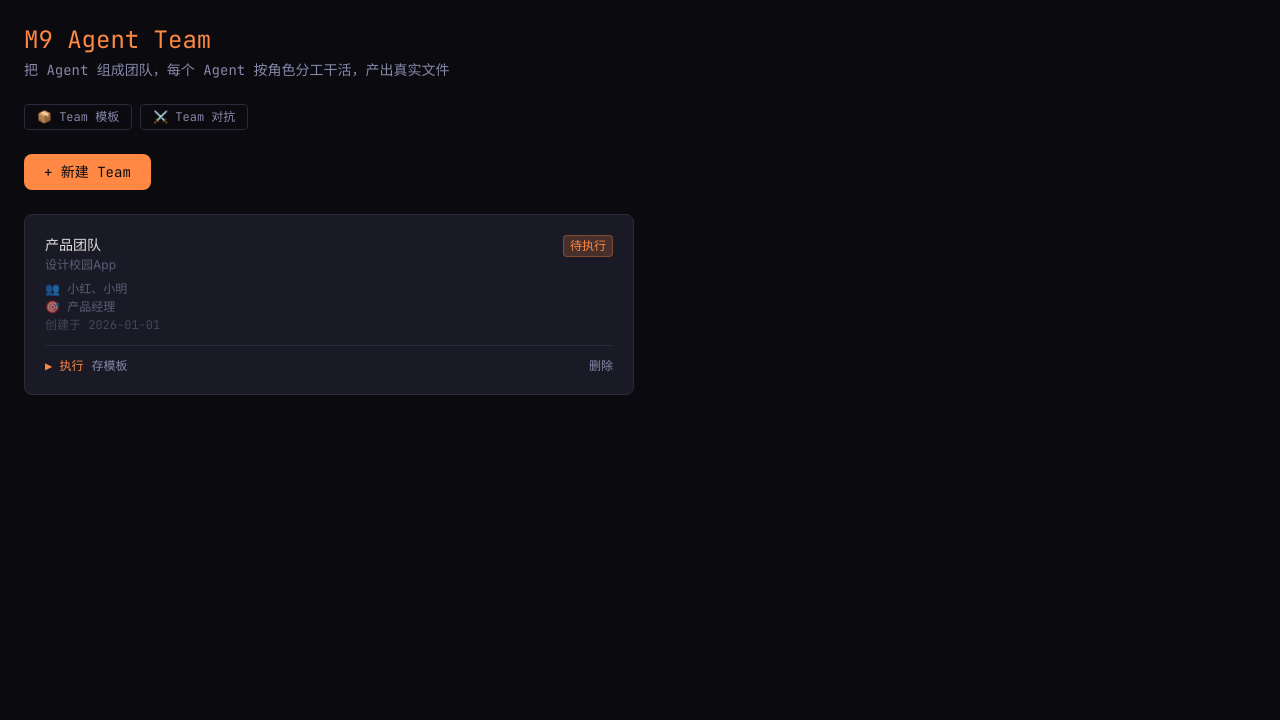
Test: TeamDashboard › keeps step output files collapsed by default and toggles them
Click the button "▶ 执行" at {"x": 64, "y": 366}, box [45,358,83,374]
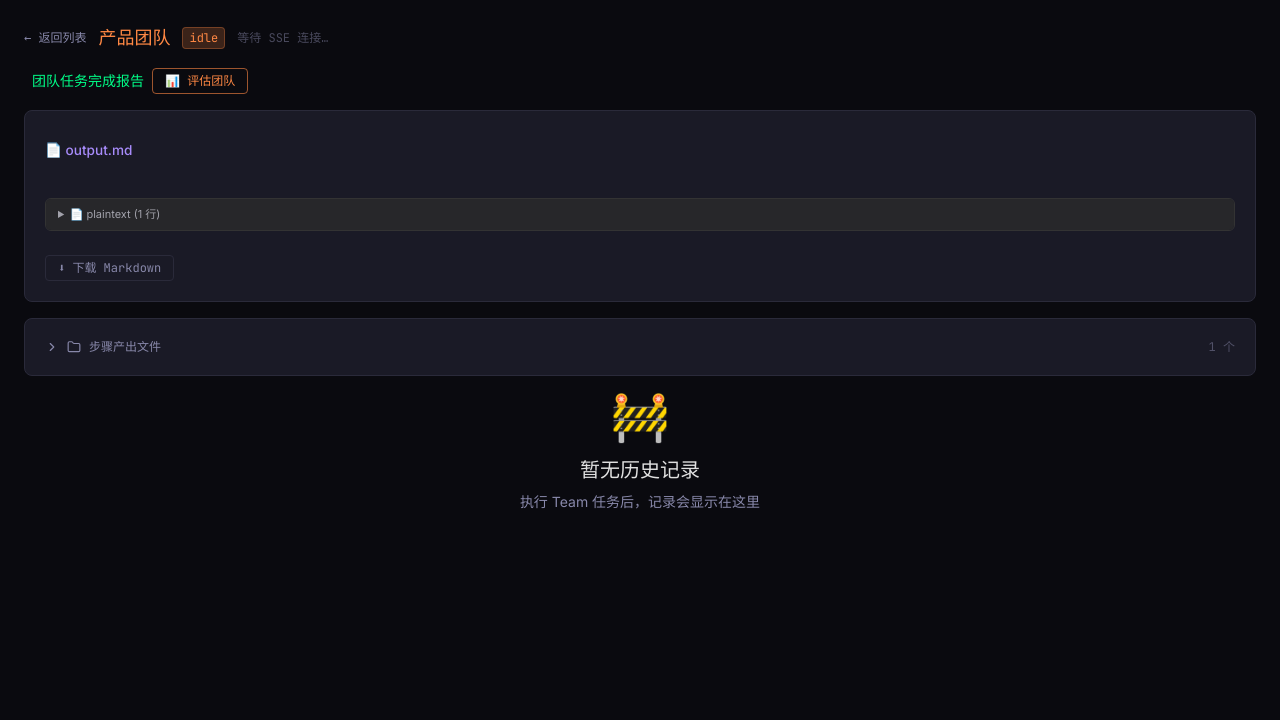
Click the button with aria-label "展开步骤产出文件，共 1 个文件" at {"x": 125, "y": 347}, box [45,339,1235,355]
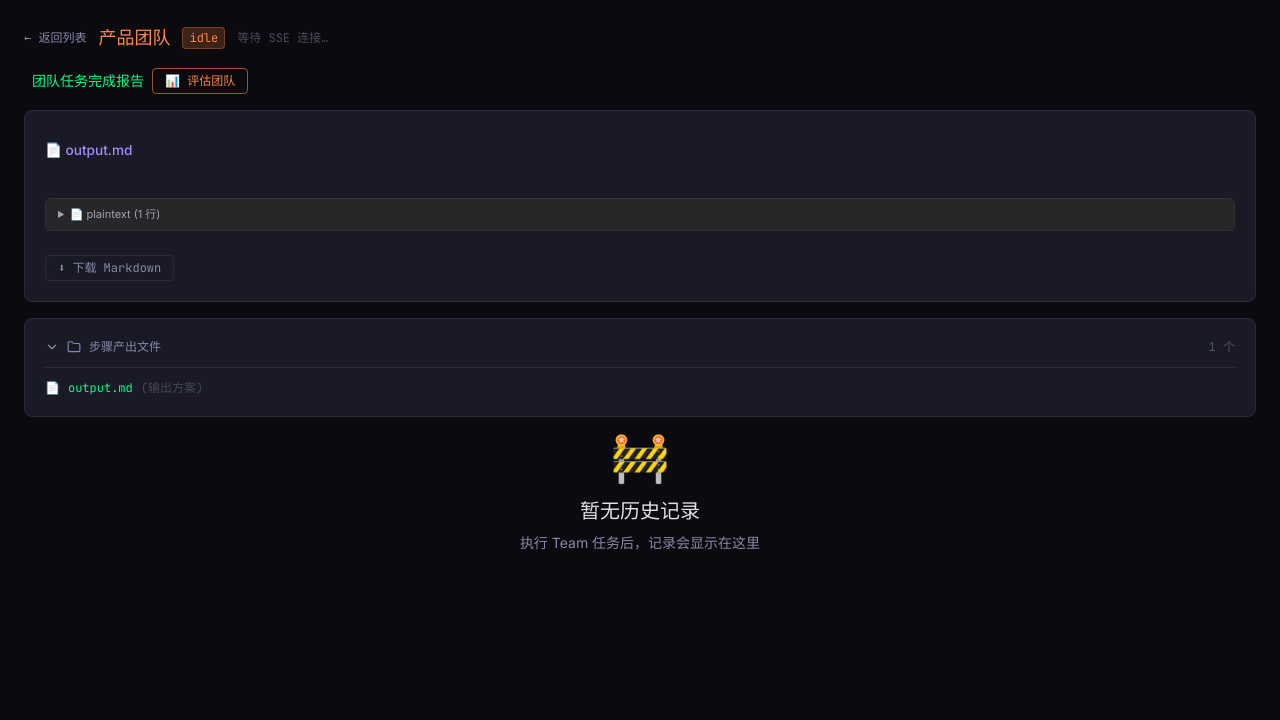
Expected: the button named "展开步骤产出文件，共 1 个文件" is expanded
Expected: the button "📄 output.md (输出方案)" is shown, [45,380,203,396]
Click the button named "展开步骤产出文件，共 1 个文件" at {"x": 125, "y": 347}, box [45,339,1235,355]
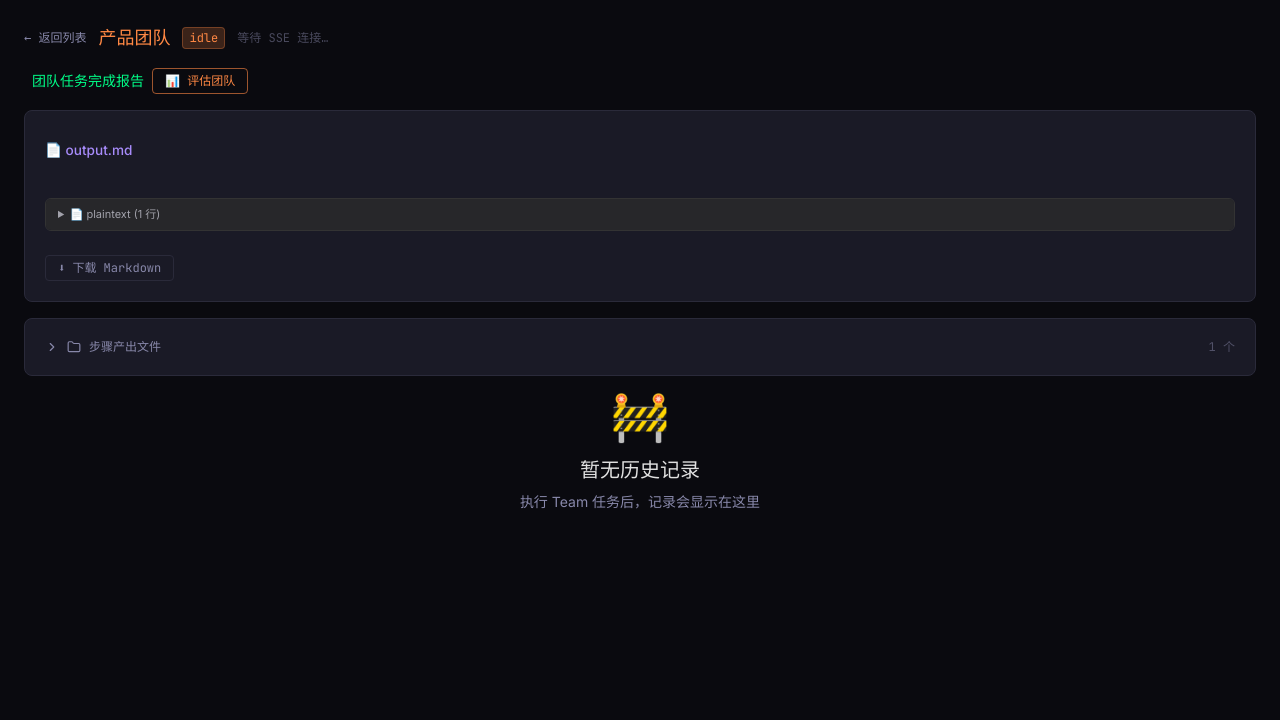
Expected: the button with aria-label "展开步骤产出文件，共 1 个文件" is collapsed, [45,339,1235,355]
Expected: the button "📄 output.md (输出方案)" is gone
